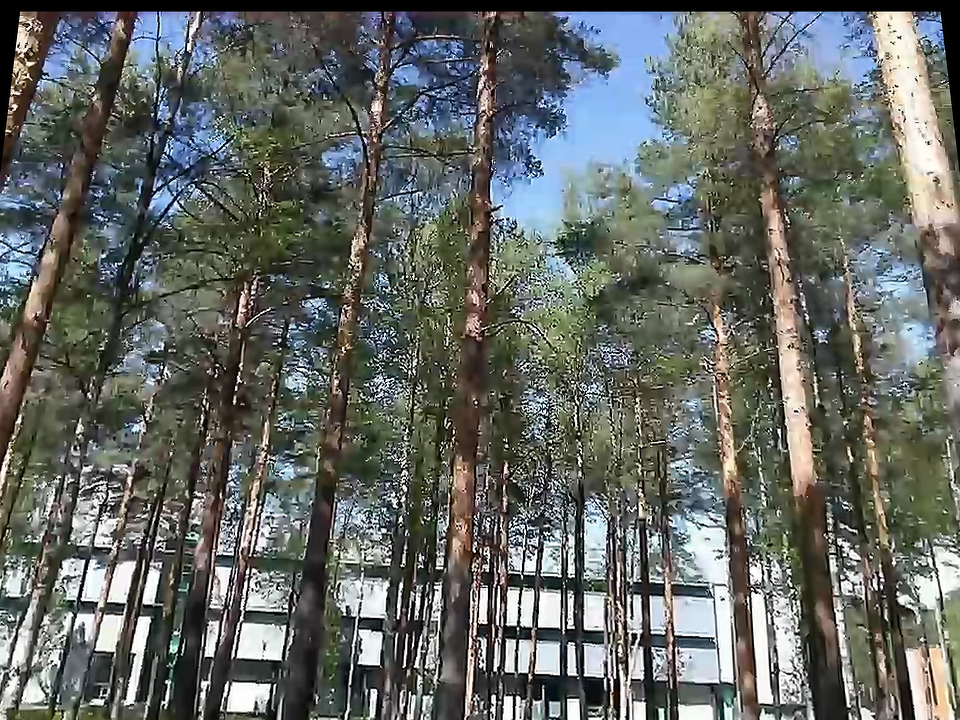branch: (385, 145, 483, 163), (491, 93, 552, 119), (375, 178, 433, 205), (774, 79, 836, 103)
trunk: (443, 28, 515, 401), (433, 380, 479, 714)
